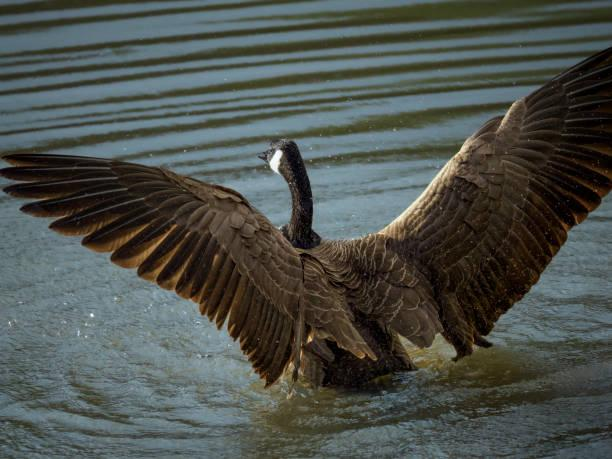Canadian-Goose: (10, 51, 612, 372)
